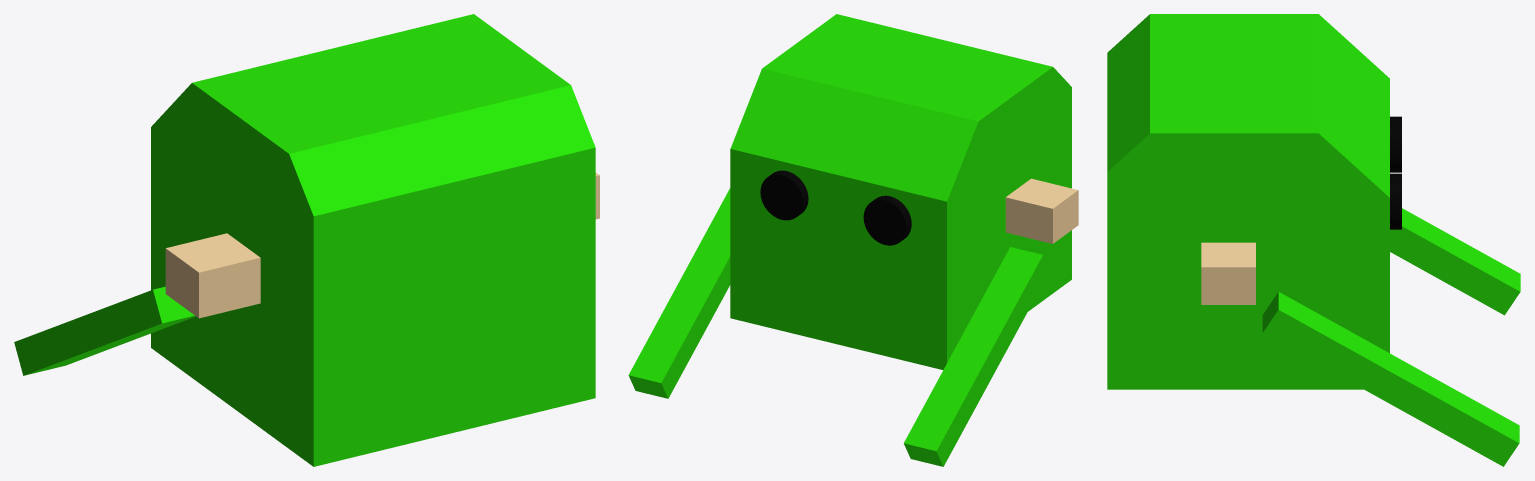
The model's file is robot.glb.
The picture shows the model from 3 angles, left to right: view 1: azimuth 30°, elevation 25°; view 2: azimuth 150°, elevation 25°; view 3: azimuth 270°, elevation 25°; orthographic projection. The views are drawn at different scales.
Visible parts, largest first — view 1: Body, right_arm, right_sholder; view 2: Body, right_arm, left_arm, right_sholder, right_eye, left_eye; view 3: Body, left_arm, right_arm, left_sholder, left_eye, right_eye.
Boxes of the visible parts, <box> form: Body: <box>151,14,595,466</box>; right_arm: <box>14,286,195,375</box>; right_sholder: <box>165,233,260,318</box>; Body: <box>730,14,1071,369</box>; right_arm: <box>903,247,1049,466</box>; left_arm: <box>628,188,730,398</box>; right_sholder: <box>1005,178,1078,243</box>; right_eye: <box>863,195,911,245</box>; left_eye: <box>760,170,808,220</box>; Body: <box>1107,14,1389,389</box>; left_arm: <box>1262,291,1519,466</box>; right_arm: <box>1390,208,1520,315</box>; left_sholder: <box>1201,242,1255,304</box>; left_eye: <box>1390,173,1401,229</box>; right_eye: <box>1390,116,1401,172</box>.
Size of the model in its own units: 2.63 by 2.23 by 2.69.
